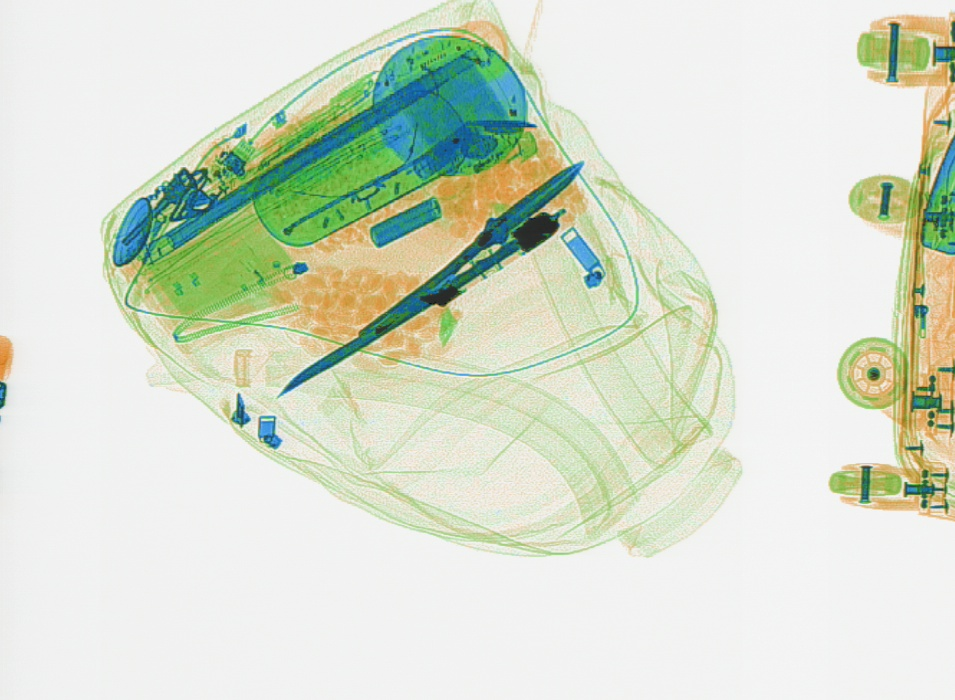knife: (275, 207, 568, 400)
lighter: (435, 130, 538, 199)
scissors: (354, 157, 586, 341)
